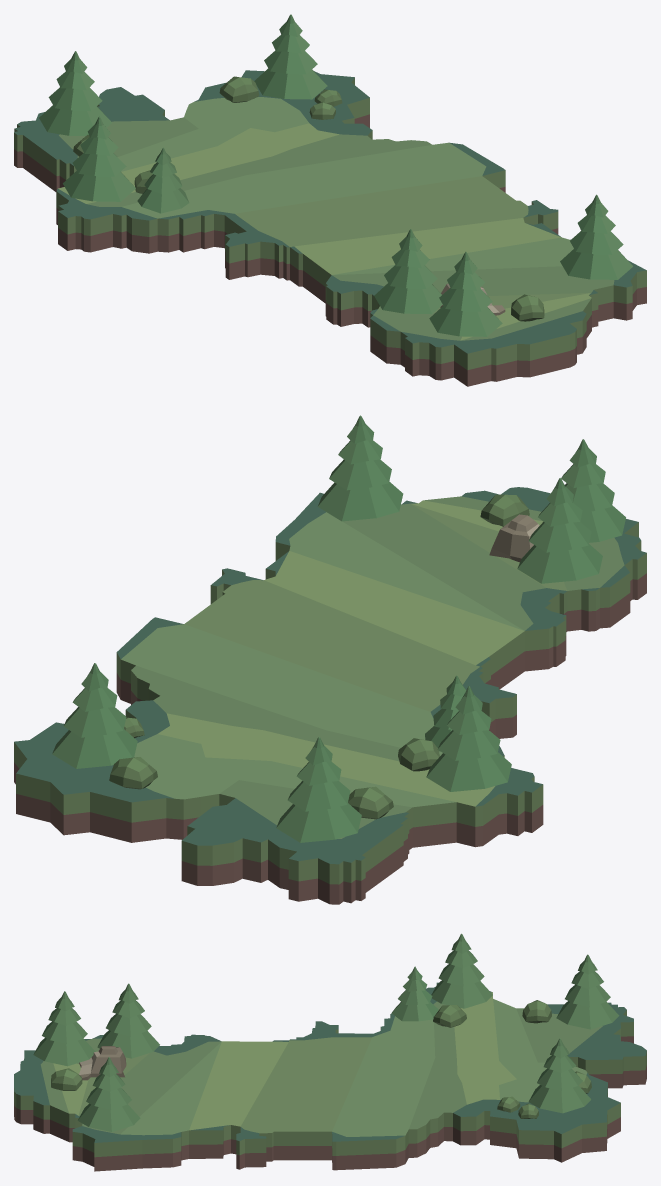
Rendered from mirnii.gltf.
3 views of the same model, one above another, from view 1: azimuth 30°, elevation 25°; view 2: azimuth 150°, elevation 25°; view 3: azimuth 270°, elevation 25° (orthographic). The views are drawn at different scales.
Visible parts, largest first — view 1: мирный; view 2: мирный; view 3: мирный.
Boxes of the visible parts, left/top/right/bottom form: мирный: left=14, top=14, right=646, bottom=386; мирный: left=14, top=415, right=646, bottom=904; мирный: left=14, top=933, right=646, bottom=1171.
Size of the model in its own units: 1.88 by 0.5325 by 3.14.
